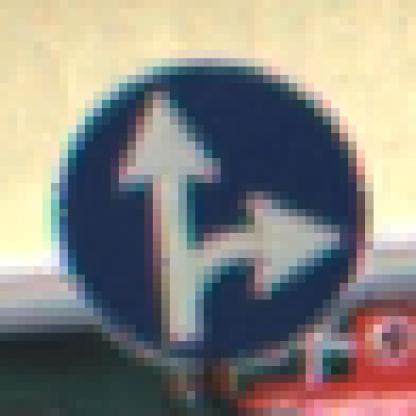Straight or Right: (44, 51, 375, 375)
